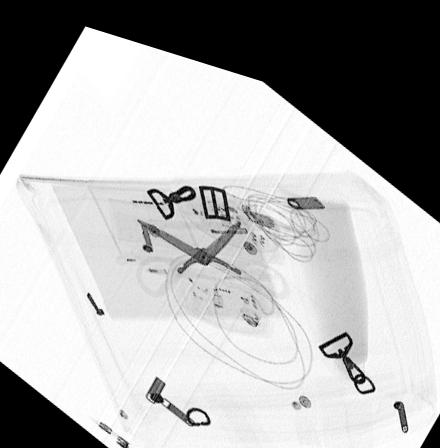Scissors: (132, 203, 291, 290)
